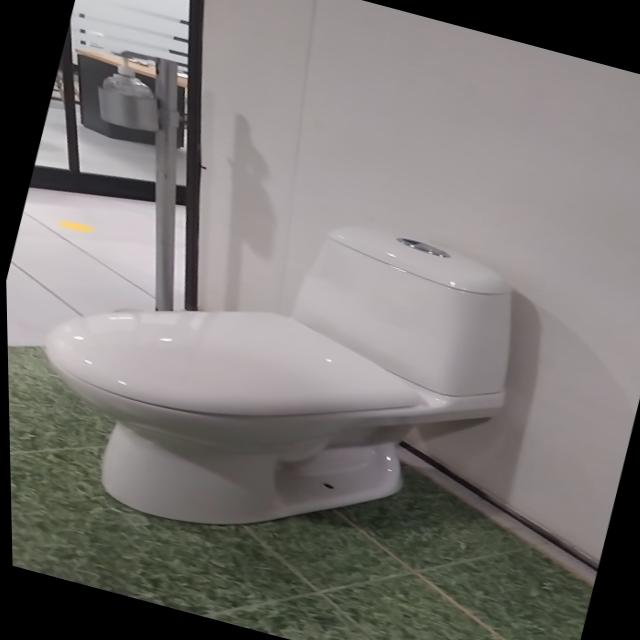toilet: (2, 139, 542, 605)
